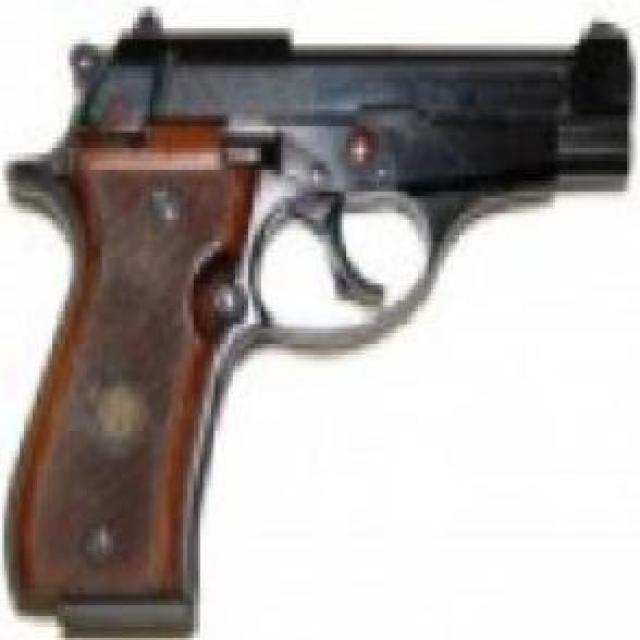pistol: (4, 2, 636, 640)
